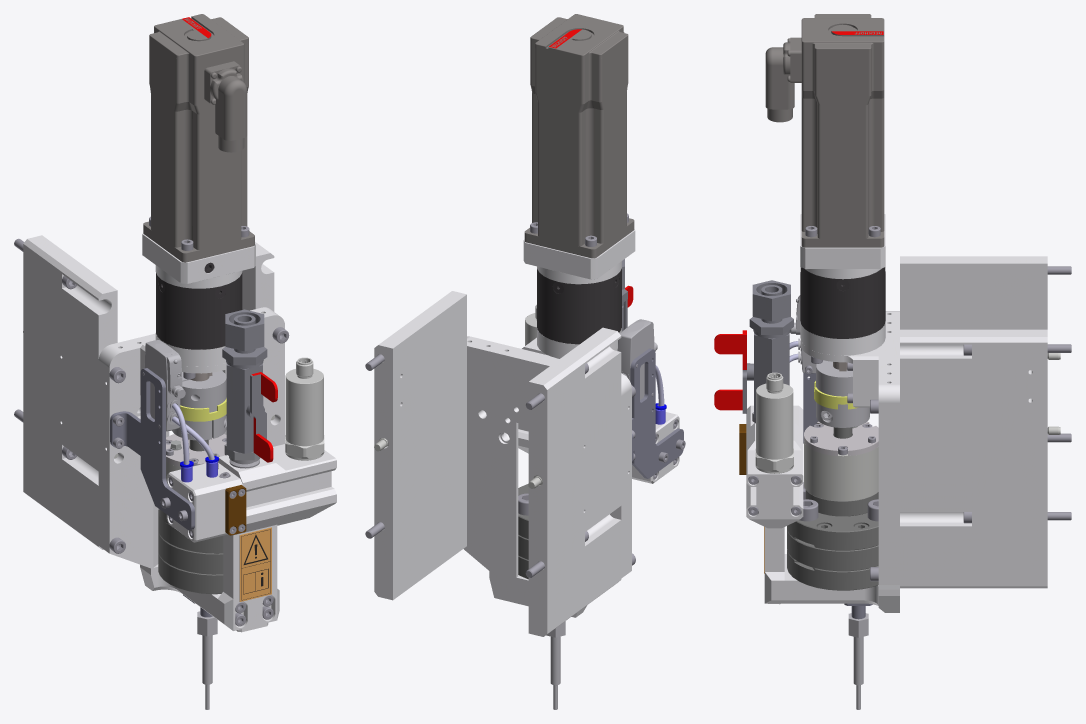
The model's file is ApplicatorHead-transformed.glb.
3 renders of one model, left to right at view 1: azimuth 30°, elevation 25°; view 2: azimuth 150°, elevation 25°; view 3: azimuth 270°, elevation 25°, orthographic.
Visible parts, largest first — view 1: DDZRD80100010.ipt; view 2: DDZRD80100010.ipt; view 3: DDZRD80100010.ipt.
Part boxes in pixels (x1,y1,x2,y2): DDZRD80100010.ipt: (14,14,336,709); DDZRD80100010.ipt: (365,14,685,709); DDZRD80100010.ipt: (714,14,1071,709).
Bounding box in the file's own units: 0.14 × 0.521 × 0.2513.
Materials: 1 (1 with a texture image).
